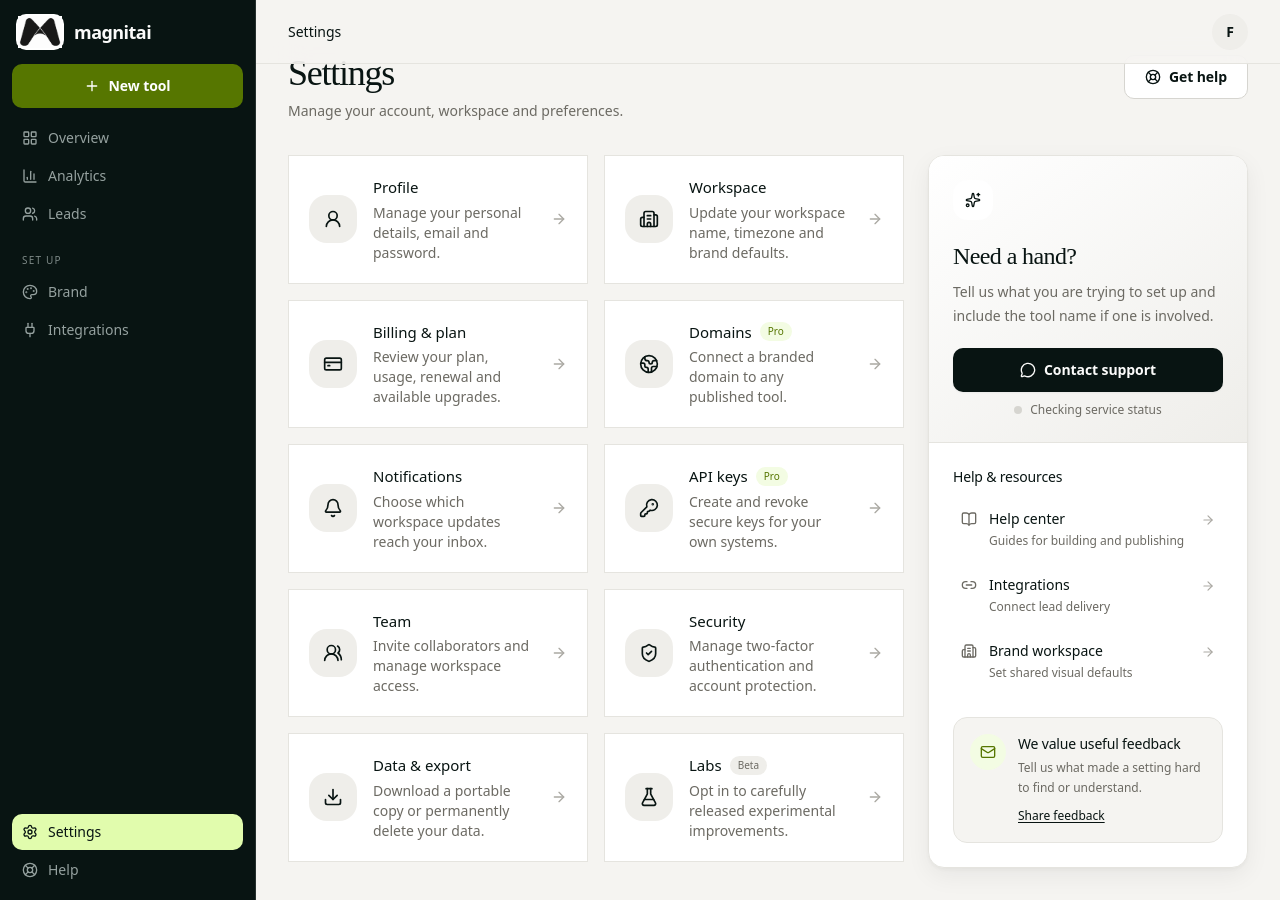
Scenario: settings route › deleting the account › shows the server's reason when deletion is refused, and keeps the session
The width and height of the screenshot is (1280, 900).
(page scrolled)
Click the link "Data & export". click: (438, 797)
box: [288,733,588,862]
(page scrolled)
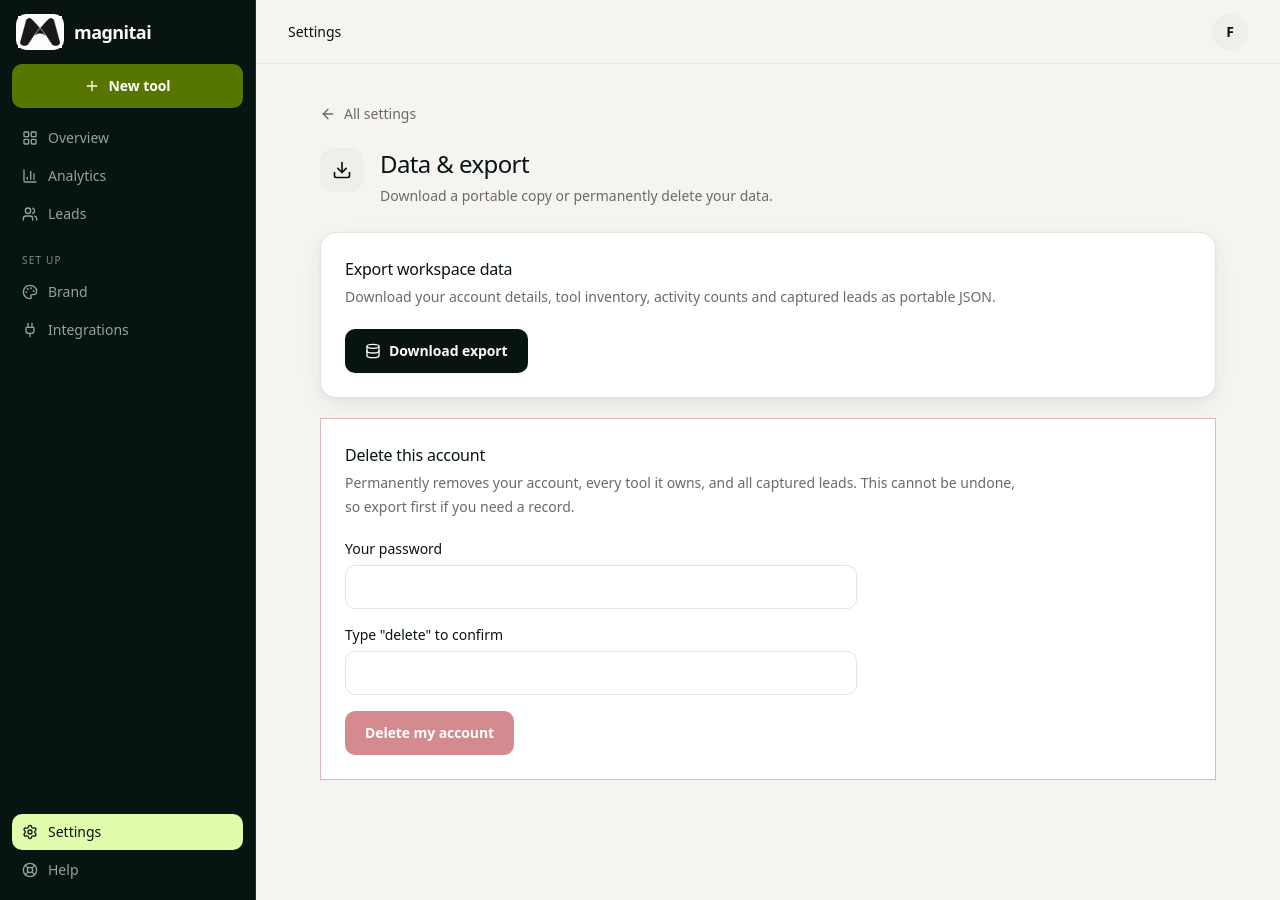
Check: the button "Delete my account" is shown, box [345,711,514,755]
Type "wrong" into the password field labelled "Your password". click: (601, 587)
box: [345,565,857,609]
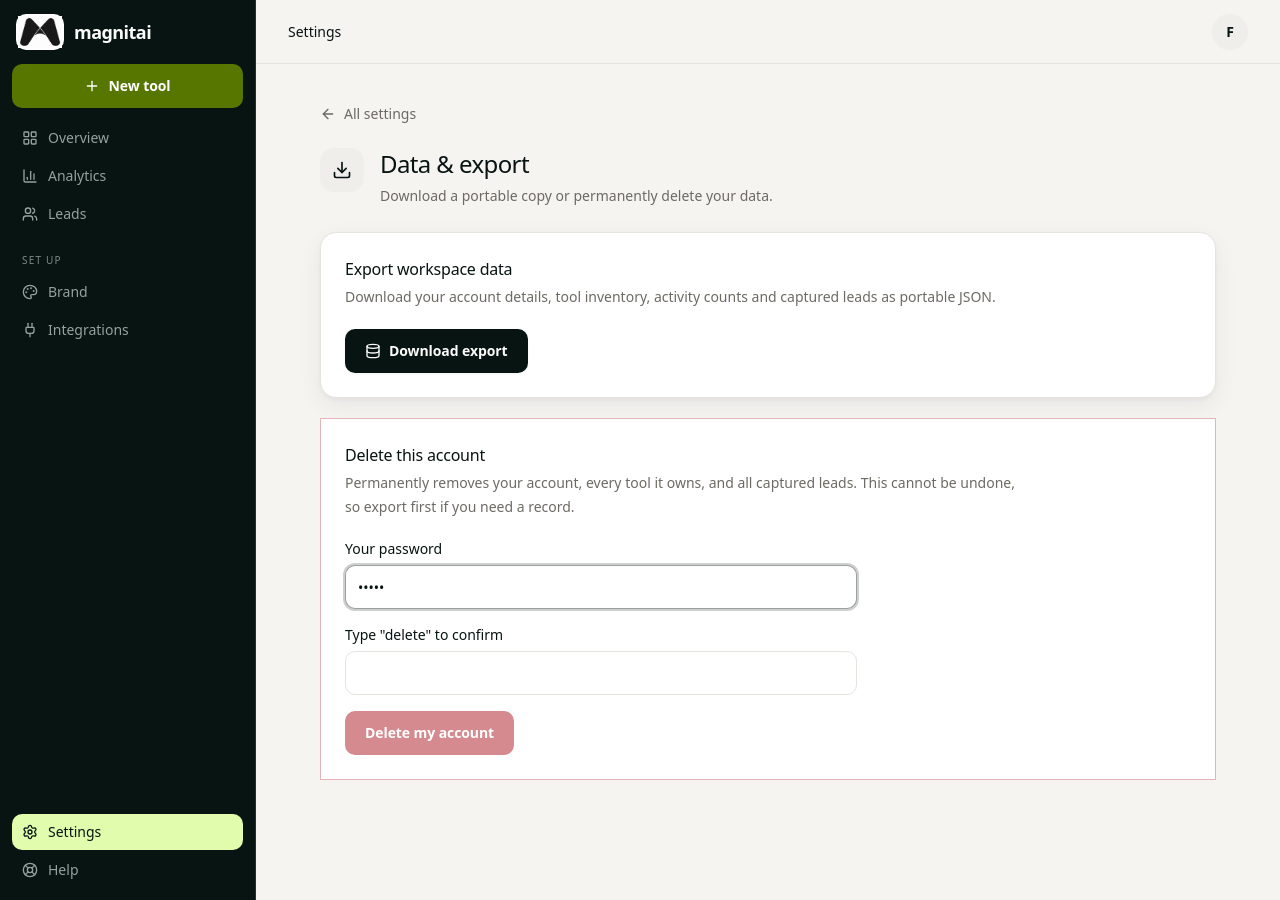
Type "delete" into the field labelled "Type \"delete\" to confirm". click: (601, 673)
box: [345,651,857,695]
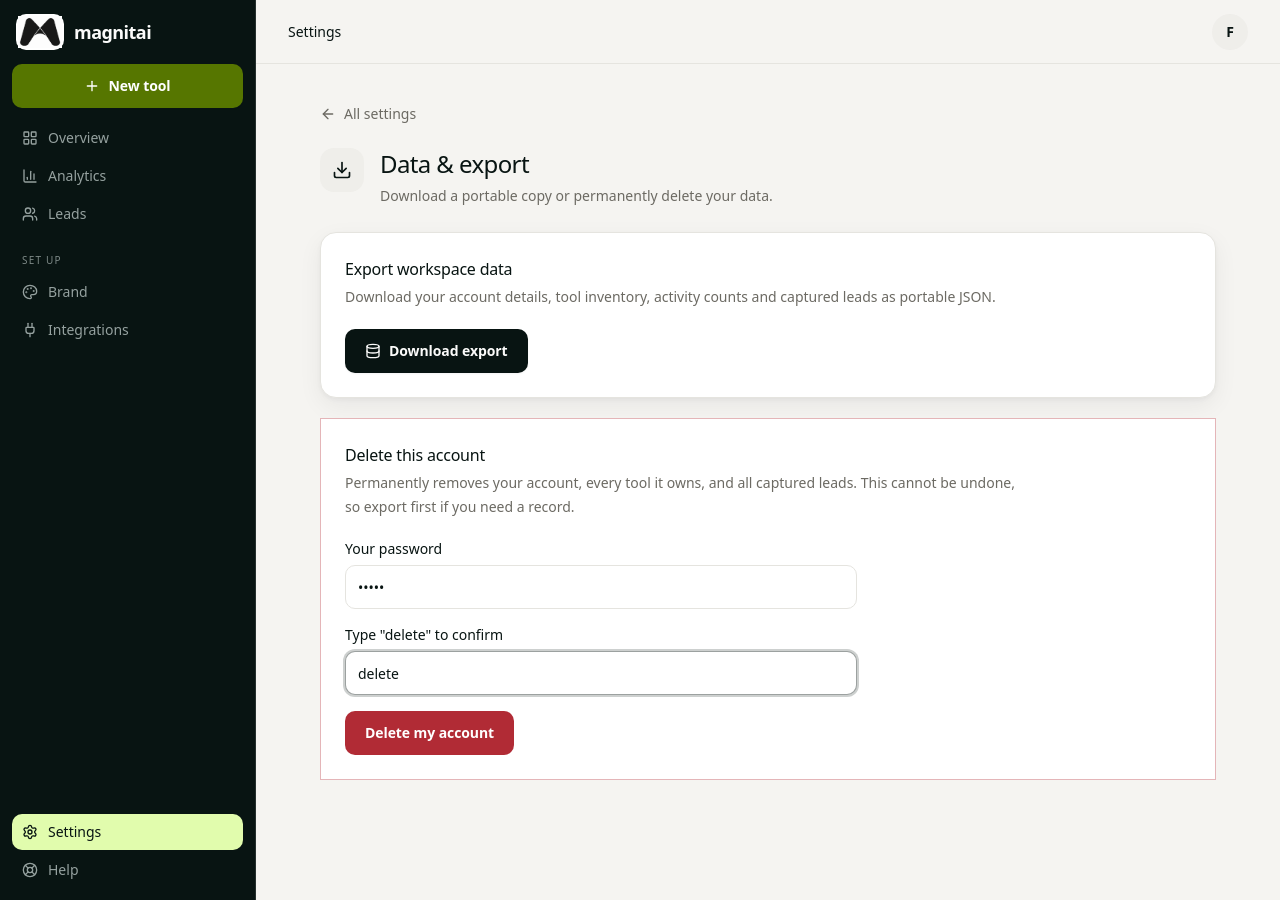
Click the button "Delete my account". click: (430, 733)
box: [345,711,514,755]
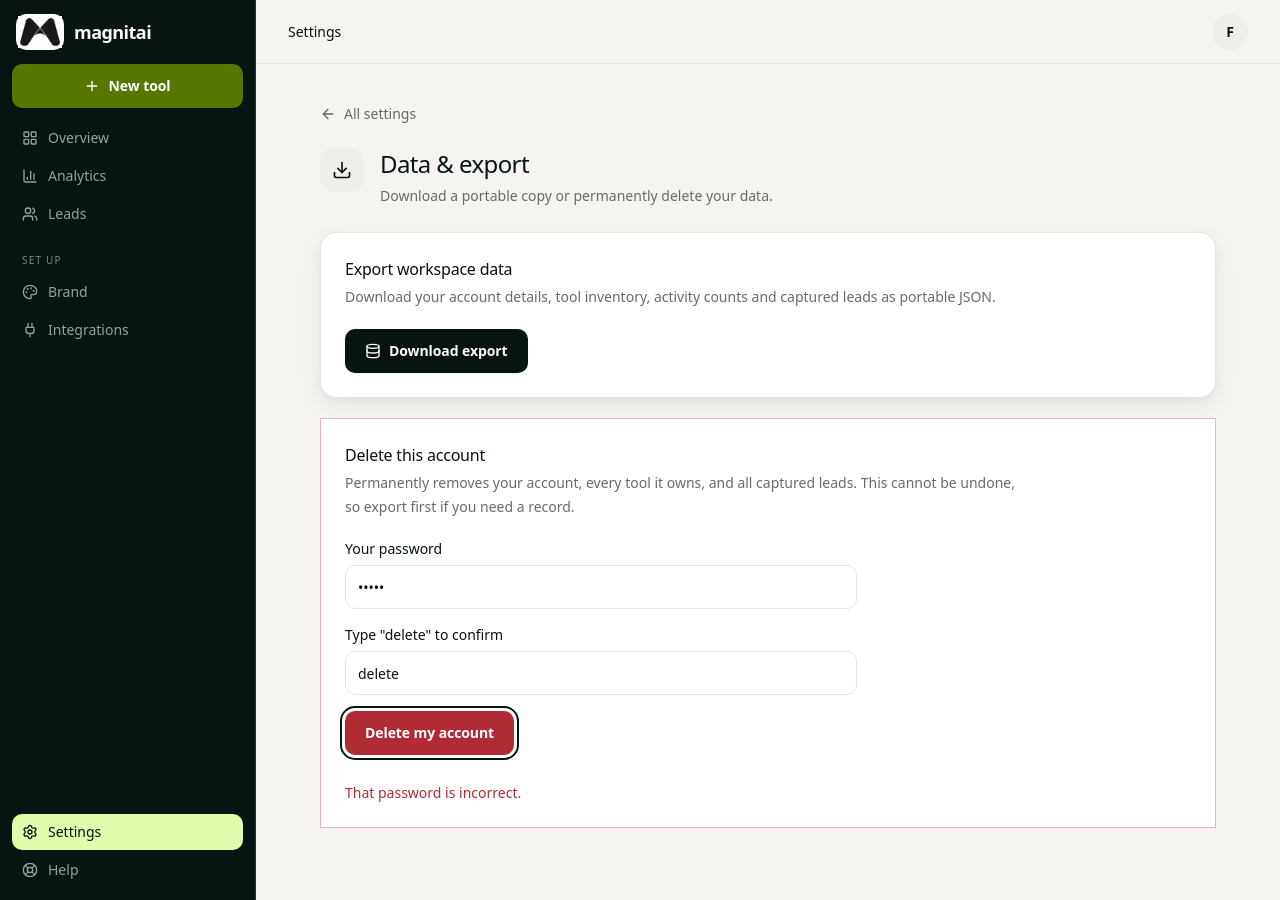
Check: the message reads "That password is incorrect.", box [345,783,521,802]
